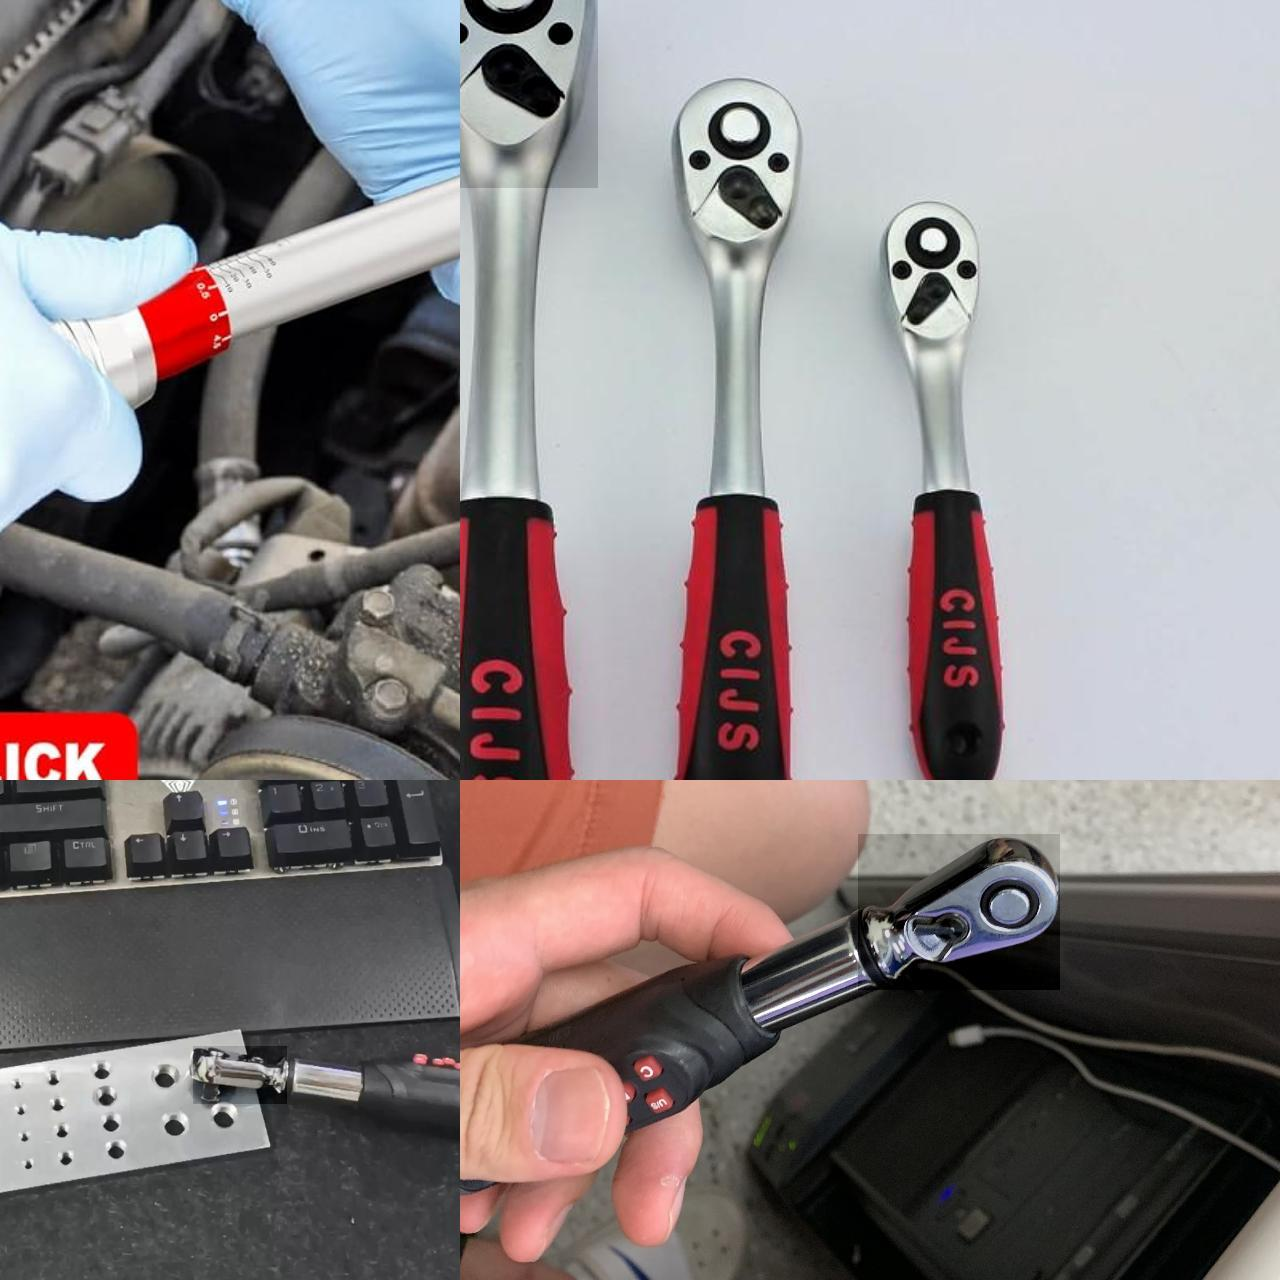Tool: (857, 833, 1059, 989), (671, 71, 803, 267), (460, 0, 597, 187), (880, 196, 979, 358), (192, 1045, 286, 1103)
